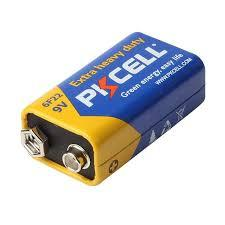9V: (16, 27, 209, 190)
